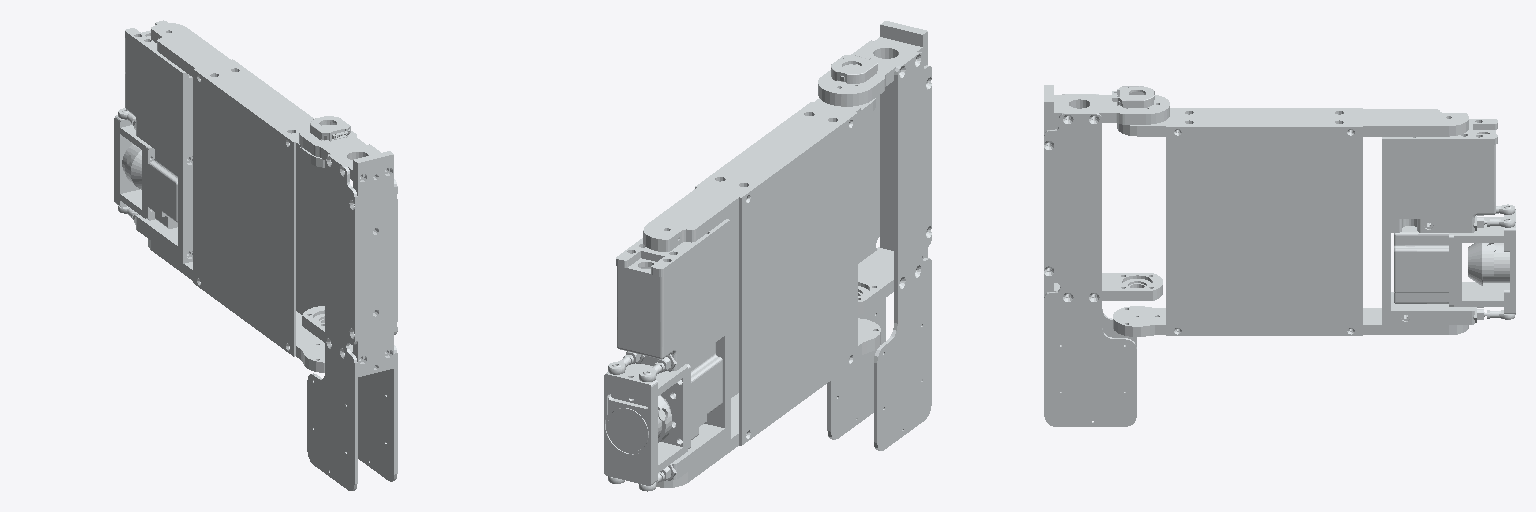
robot.urdf — Hand-Left:
<?xml version="1.0" ?>
<robot name="Hand-Left">
  <link name="Left_hand_link_base">
    <inertial>
      <origin xyz="1.3401999999999999E-06 31.313 -28.611" rpy="0 0 0"/>
      <mass value="0.58902"/>
      <inertia ixx="0.0028073" ixy="-2.209E-12" ixz="1.4526E-11" iyy="0.0026158" iyz="0.00013375" izz="0.00026433"/>
    </inertial>
    <visual>
      <origin xyz="0 0 0" rpy="0 0 0"/>
      <geometry>
        <mesh filename="Hand\meshes/visual/hand_link_base.STL"/>
      </geometry>
      <material name="">
        <color rgba="0.89804 0.91765 0.92941 1"/>
      </material>
    </visual>
    <collision>
      <origin xyz="0 0 0" rpy="0 0 0"/>
      <geometry>
        <mesh filename="Hand\meshes/collision/hand_link_base.STL"/>
      </geometry>
    </collision>
  </link>
  <link name="Left_hand_link_1">
    <inertial>
      <origin xyz="0.078245 123.00999999999999 -17.902" rpy="0 0 0"/>
      <mass value="0.9156"/>
      <inertia ixx="0.0061229" ixy="-3.976E-06" ixz="-8.986E-08" iyy="0.0012773" iyz="-1.541E-06" izz="0.0049578"/>
    </inertial>
    <visual>
      <origin xyz="0 0 0" rpy="0 0 0"/>
      <geometry>
        <mesh filename="Hand\meshes/visual/hand_link_1.STL"/>
      </geometry>
      <material name="">
        <color rgba="0.89804 0.91765 0.92941 1"/>
      </material>
    </visual>
    <collision>
      <origin xyz="0 0 0" rpy="0 0 0"/>
      <geometry>
        <mesh filename="Hand\meshes/collision/hand_link_1.STL"/>
      </geometry>
    </collision>
  </link>
  <joint name="Left_hand_link_base_to_hand_link_1" type="revolute">
    <origin xyz="0 80.5 0" rpy="0 0 0"/>
    <parent link="Left_hand_link_base"/>
    <child link="Left_hand_link_1"/>
    <axis xyz="0 0 1"/>
    <limit lower="-1.5707" upper="1.5707" effort="0" velocity="0"/>
  </joint>
  <link name="Left_hand_link_2">
    <inertial>
      <origin xyz="-0.20099 -17.898 -22.892" rpy="0 0 0"/>
      <mass value="0.51508"/>
      <inertia ixx="0.00066677" ixy="-1.2886E-06" ixz="2.8391E-07" iyy="0.00054582" iyz="2.8064E-06" izz="0.00026757"/>
    </inertial>
    <visual>
      <origin xyz="0 0 0" rpy="0 0 0"/>
      <geometry>
        <mesh filename="Hand\meshes/visual/hand_link_2.STL"/>
      </geometry>
      <material name="">
        <color rgba="0.89804 0.91765 0.92941 1"/>
      </material>
    </visual>
    <collision>
      <origin xyz="0 0 0" rpy="0 0 0"/>
      <geometry>
        <mesh filename="Hand\meshes/collision/hand_link_2.STL"/>
      </geometry>
    </collision>
  </link>
  <joint name="Left_hand_link_1_to_hand_link_2" type="revolute">
    <origin xyz="0 270 0" rpy="0 0 0"/>
    <parent link="Left_hand_link_1"/>
    <child link="Left_hand_link_2"/>
    <axis xyz="0 0 1"/>
    <limit lower="-1.5707" upper="1.5707" effort="0" velocity="0"/>
  </joint>
  <link name="Left_tool_rotate">
    <inertial>
      <origin xyz="-0.47146 66.03699999999999 1.2923" rpy="0 0 0"/>
      <mass value="0.013164"/>
      <inertia ixx="1.5074E-06" ixy="4.0748E-08" ixz="-5.9309E-08" iyy="2.5506E-06" iyz="-1.1169E-07" izz="1.6484E-06"/>
    </inertial>
    <visual>
      <origin xyz="0 0 0" rpy="0 0 0"/>
      <geometry>
        <mesh filename="Hand\meshes/visual/tool_rotate.STL"/>
      </geometry>
      <material name="">
        <color rgba="0.89804 0.91765 0.92941 1"/>
      </material>
    </visual>
    <collision>
      <origin xyz="0 0 0" rpy="0 0 0"/>
      <geometry>
        <mesh filename="Hand\meshes/collision/tool_rotate.STL"/>
      </geometry>
    </collision>
  </link>
  <joint name="Left_hand_link_2_to_tool_rotate" type="revolute">
    <origin xyz="0 -40.958 -55.129" rpy="0 0 0"/>
    <parent link="Left_hand_link_2"/>
    <child link="Left_tool_rotate"/>
    <axis xyz="0 1 0"/>
    <limit lower="-6.2831" upper="6.2831" effort="0" velocity="0"/>
  </joint>
  <link name="Left_tool_0">
    <inertial>
      <origin xyz="-0.018167 -24.185000000000002 0.049811999999999995" rpy="0 0 0"/>
      <mass value="0.028269"/>
      <inertia ixx="4.0894E-06" ixy="-2.9751E-09" ixz="-2.5563E-11" iyy="4.5453E-06" iyz="8.1573E-09" izz="4.0894E-06"/>
    </inertial>
    <visual>
      <origin xyz="0 0 0" rpy="0 0 0"/>
      <geometry>
        <mesh filename="Hand\meshes/visual/tool_0.STL"/>
      </geometry>
      <material name="">
        <color rgba="0.89804 0.91765 0.92941 1"/>
      </material>
    </visual>
    <collision>
      <origin xyz="0 0 0" rpy="0 0 0"/>
      <geometry>
        <mesh filename="Hand\meshes/collision/tool_0.STL"/>
      </geometry>
    </collision>
  </link>
  <joint name="Left_tool_rotate_to_tool_0" type="fixed">
    <origin xyz="0 107.96 0" rpy="0 0 0"/>
    <parent link="Left_tool_rotate"/>
    <child link="Left_tool_0"/>
    <axis xyz="0 0 0"/>
  </joint>
  <link name="Left_laser_link">
    <inertial>
      <origin xyz="0 0 0" rpy="0 0 0"/>
      <mass value="0"/>
      <inertia ixx="0" ixy="0" ixz="0" iyy="0" iyz="0" izz="0"/>
    </inertial>
    <visual>
      <origin xyz="0 0 0" rpy="0 0 0"/>
      <geometry>
        <mesh filename="Hand\meshes/visual/laser_link.STL"/>
      </geometry>
      <material name="">
        <color rgba="0.89804 0.91765 0.92941 1"/>
      </material>
    </visual>
    <collision>
      <origin xyz="0 0 0" rpy="0 0 0"/>
      <geometry>
        <mesh filename="Hand\meshes/collision/laser_link.STL"/>
      </geometry>
    </collision>
  </link>
  <joint name="Left_hand_link_base_to_laser_link" type="fixed">
    <origin xyz="0 358 -146.14" rpy="0 0 0"/>
    <parent link="Left_hand_link_base"/>
    <child link="Left_laser_link"/>
    <axis xyz="0 0 0"/>
  </joint>
</robot>

--- Render facts (derived) ---
Views: 3 orthographic renders of the robot side by side, from view 1: azimuth 30°, elevation 25°; view 2: azimuth 150°, elevation 25°; view 3: azimuth 270°, elevation 25°.
Robot: Hand-Left — 6 links, 5 joints (3 revolute, 2 fixed); root link Left_hand_link_base; default pose: all joints at 0.
Links seen in each view (by area): view 1: Left_hand_link_1, Left_hand_link_base, Left_hand_link_2, Left_laser_link, Left_tool_rotate; view 2: Left_hand_link_1, Left_hand_link_base, Left_hand_link_2, Left_tool_0, Left_laser_link; view 3: Left_hand_link_1, Left_hand_link_base, Left_hand_link_2, Left_tool_rotate, Left_laser_link, Left_tool_0.
Boxes of the visible links, x1,y1,x2,y2 form: Left_hand_link_1: (148, 23, 324, 372); Left_hand_link_base: (299, 123, 397, 490); Left_hand_link_2: (114, 20, 192, 263); Left_laser_link: (310, 116, 350, 141); Left_tool_rotate: (125, 146, 141, 189); Left_hand_link_1: (643, 98, 880, 487); Left_hand_link_base: (818, 21, 931, 450); Left_hand_link_2: (604, 219, 730, 491); Left_tool_0: (608, 408, 665, 450); Left_laser_link: (831, 54, 877, 83); Left_hand_link_1: (1113, 108, 1468, 336); Left_hand_link_base: (1044, 85, 1169, 426); Left_hand_link_2: (1382, 119, 1515, 324); Left_tool_rotate: (1468, 243, 1493, 285); Left_laser_link: (1112, 86, 1154, 107); Left_tool_0: (1483, 243, 1509, 282).
Size in the robot's own frame: 42.43 by 408 by 309 metres.
6 mesh visuals loaded from 6 distinct referenced files (6 binary STL).
